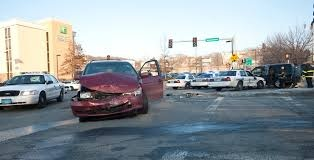Smashed: (72, 78, 147, 113)
